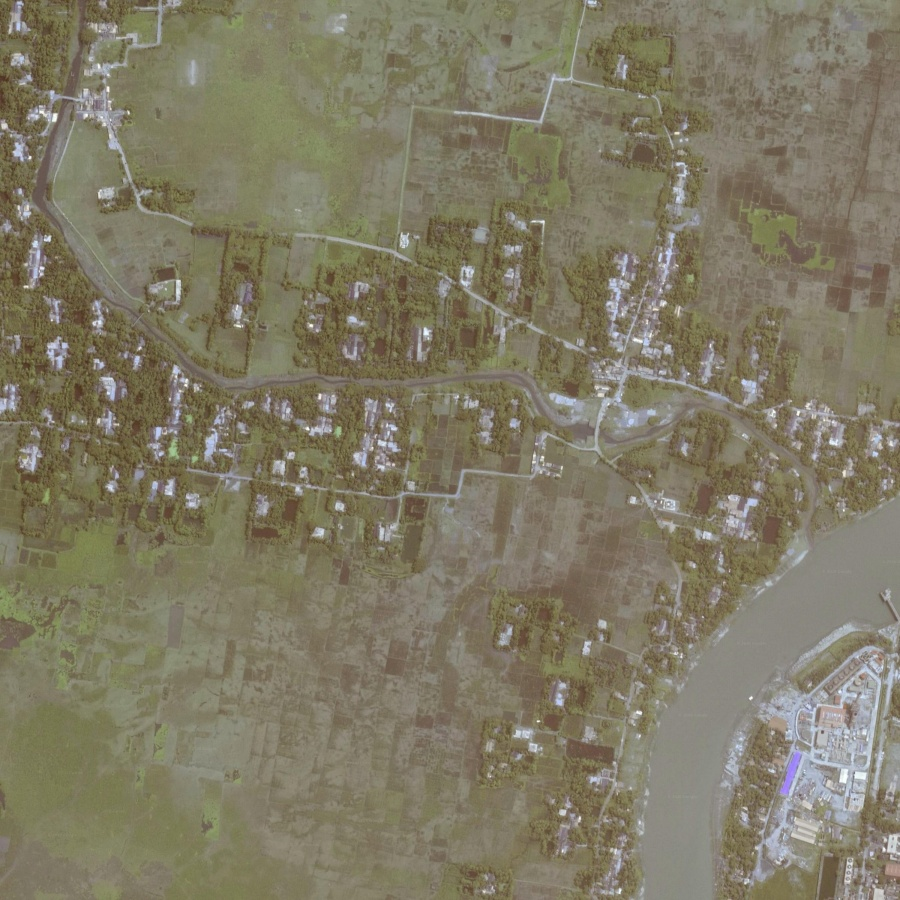PowerPlant: (807, 657, 878, 812)
